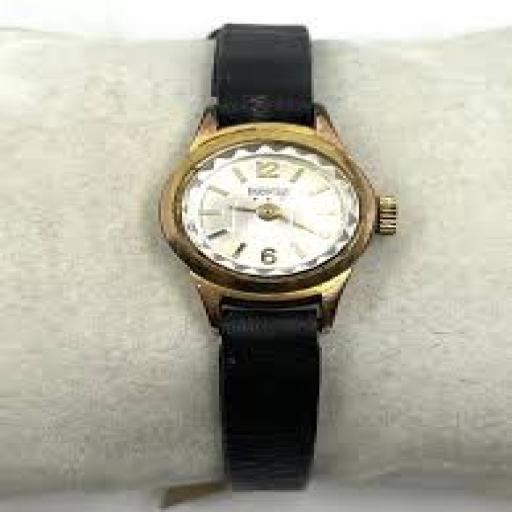KolSaati: (108, 0, 433, 504)
